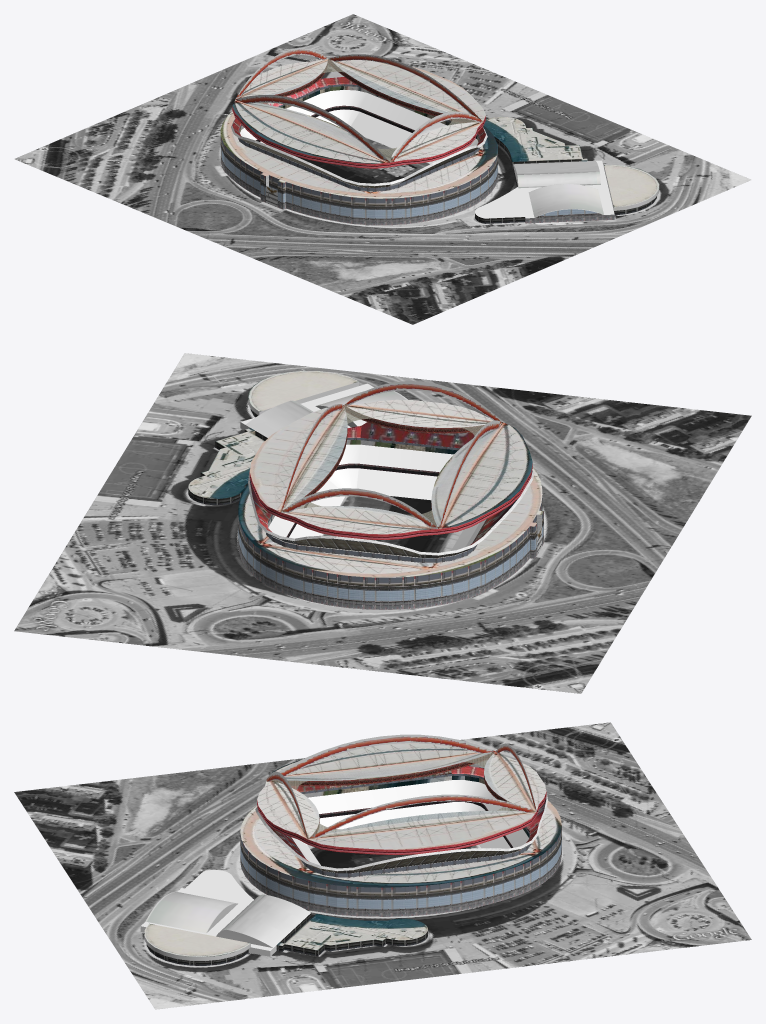
Rendered from daluz.fbx.
3 views of the same model, one above another, from view 1: azimuth 30°, elevation 25°; view 2: azimuth 150°, elevation 25°; view 3: azimuth 270°, elevation 25° (orthographic). The views are drawn at different scales.
Parts seen in each view (by area): view 1: Google_Earth_Snapshot, Model; view 2: Google_Earth_Snapshot, Model; view 3: Google_Earth_Snapshot, Model.
Part boxes in pixels (x1,y1,x2,y2): Google_Earth_Snapshot: (14,14,751,324); Model: (220,48,659,225); Google_Earth_Snapshot: (14,353,751,693); Model: (188,370,543,609); Google_Earth_Snapshot: (14,722,751,1009); Model: (140,734,561,965).
Size of the model in its own units: 530 by 81.23 by 576.
